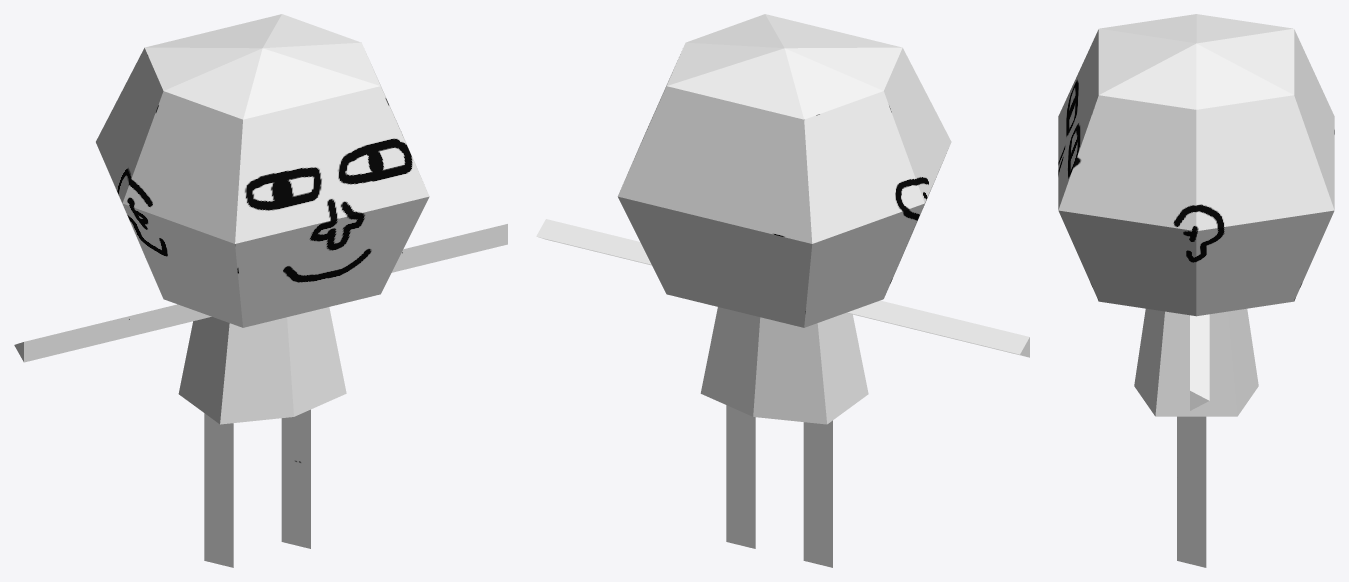
Rendered from player.fbx.
3 renders of one model, left to right at view 1: azimuth 30°, elevation 25°; view 2: azimuth 150°, elevation 25°; view 3: azimuth 270°, elevation 25°, orthographic.
Parts seen in each view (by area): view 1: Sphere, Cylinder, Cylinder.001, Cylinder.002; view 2: Sphere, Cylinder, Cylinder.001, Cylinder.002; view 3: Sphere, Cylinder, Cylinder.001, Cylinder.002.
Part boxes in pixels (x1,y1,x2,y2): Sphere: [96, 14, 429, 327]; Cylinder: [178, 307, 346, 424]; Cylinder.001: [204, 409, 310, 567]; Cylinder.002: [14, 224, 507, 362]; Sphere: [617, 14, 951, 327]; Cylinder: [700, 307, 868, 424]; Cylinder.001: [726, 405, 832, 567]; Cylinder.002: [536, 219, 1029, 357]; Sphere: [1058, 14, 1334, 316]; Cylinder: [1134, 308, 1258, 416]; Cylinder.001: [1177, 416, 1206, 567]; Cylinder.002: [1190, 314, 1209, 410].
Size of the model in its own units: 257 by 255 by 128.
